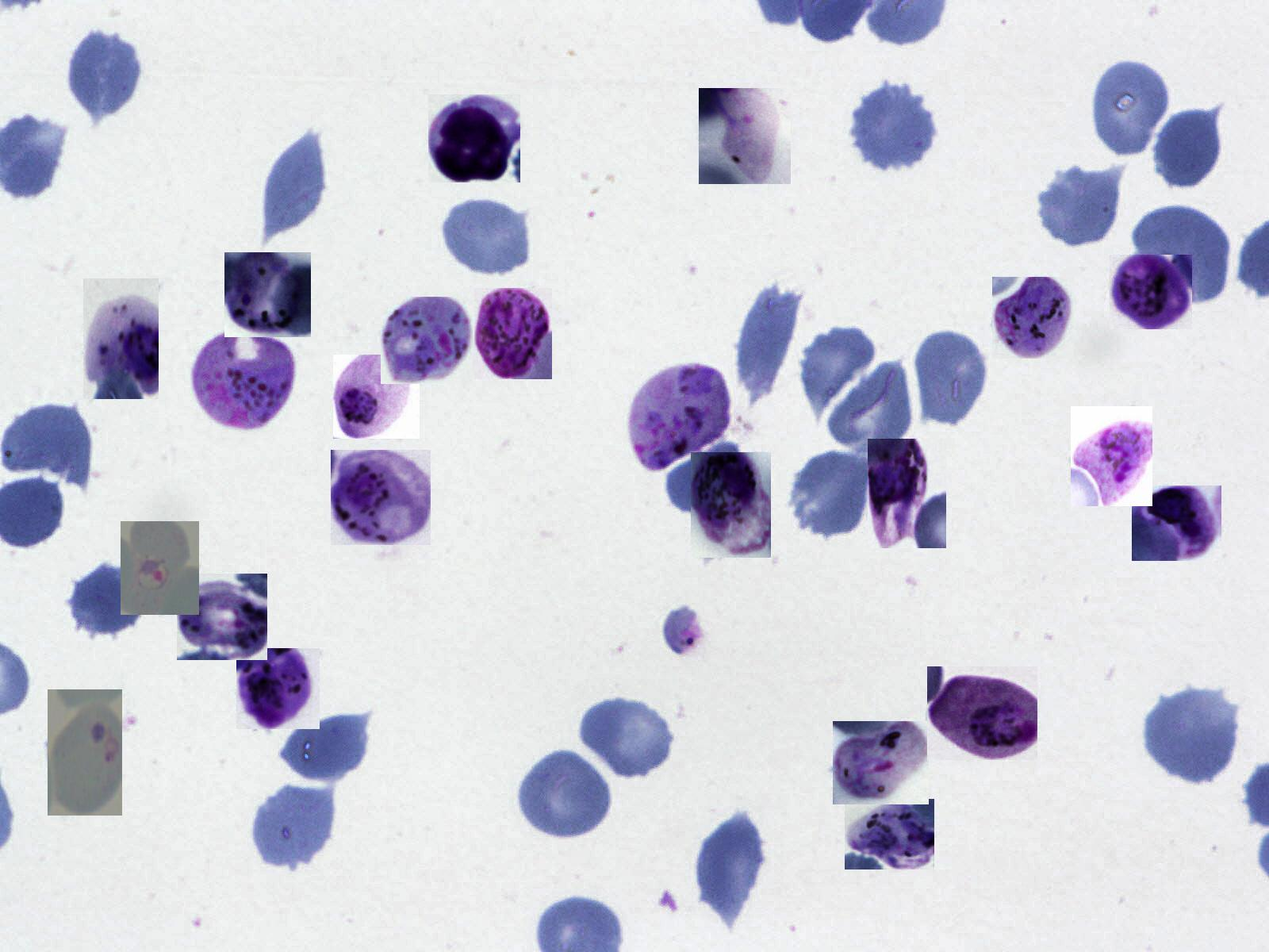Infected: (628, 361, 732, 468), (194, 325, 297, 428), (927, 666, 1037, 760), (331, 450, 431, 545), (48, 689, 122, 816), (83, 278, 159, 399), (699, 88, 791, 184), (868, 439, 946, 548), (691, 452, 771, 558), (1071, 406, 1152, 506), (428, 94, 520, 182), (381, 297, 473, 384), (833, 721, 929, 804), (177, 574, 267, 660), (224, 252, 311, 337), (121, 521, 199, 615), (333, 355, 420, 439), (474, 288, 552, 379), (236, 648, 320, 729), (992, 277, 1074, 359), (1132, 486, 1221, 561), (845, 799, 934, 869), (1110, 255, 1192, 329)
Uninfected: (1142, 684, 1240, 786), (1134, 202, 1233, 302), (516, 747, 615, 843), (827, 355, 918, 455), (692, 804, 766, 923), (577, 693, 677, 781), (247, 779, 336, 874), (1091, 57, 1173, 159), (796, 321, 880, 420), (735, 285, 805, 403), (790, 446, 877, 540), (914, 324, 990, 431), (1, 403, 93, 491), (261, 125, 331, 240), (848, 82, 938, 171), (1037, 157, 1125, 248), (278, 704, 374, 786), (440, 196, 534, 278), (65, 25, 143, 121), (67, 560, 147, 641), (1153, 106, 1225, 193), (665, 437, 742, 513)
